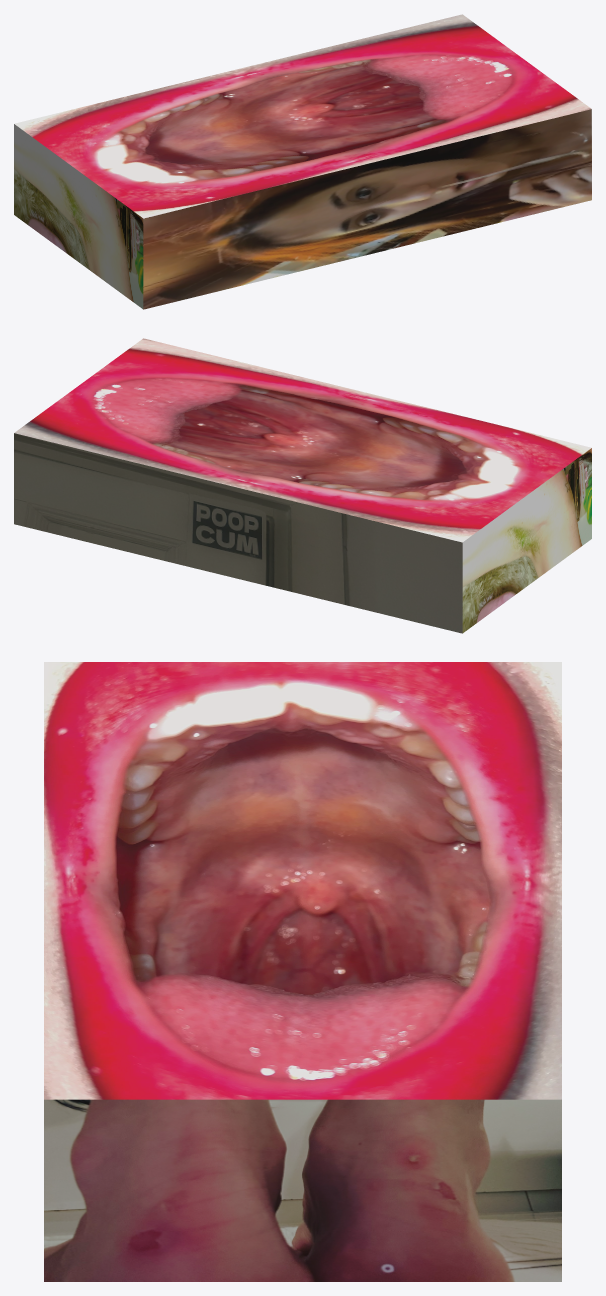
3 views of the same model, one above another, from view 1: azimuth 30°, elevation 25°; view 2: azimuth 150°, elevation 25°; view 3: azimuth 270°, elevation 25° (orthographic). The views are drawn at different scales.
Parts seen in each view (by area): view 1: cube2_33x85x170; view 2: cube2_33x85x170; view 3: cube2_33x85x170.
Boxes of the visible parts, bbox=[...] form: cube2_33x85x170: bbox=[14, 14, 591, 309]; cube2_33x85x170: bbox=[14, 338, 591, 633]; cube2_33x85x170: bbox=[44, 662, 561, 1281].
Bounding box in the file's own units: 0.17 × 0.033 × 0.085.
6 materials, 6 textured.
